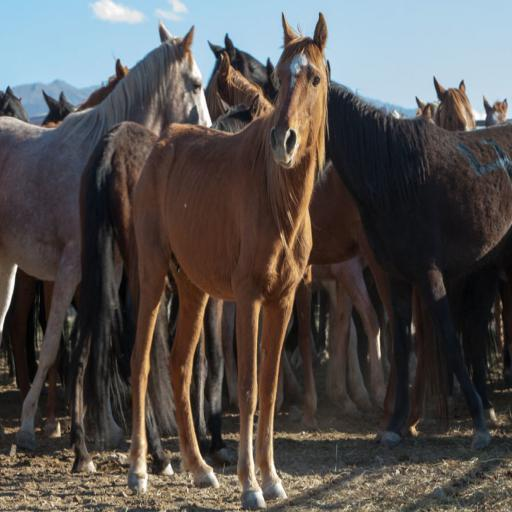horse: (2, 10, 512, 510)
